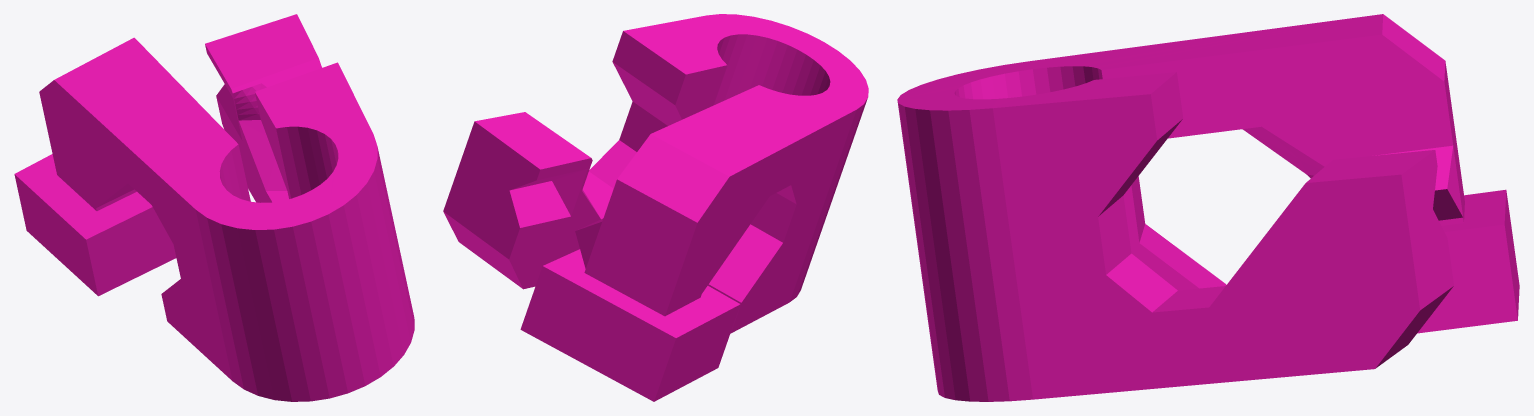
Rendered from barClamp1_5.dae.
The picture shows the model from 3 angles, left to right: view 1: azimuth 30°, elevation 25°; view 2: azimuth 150°, elevation 25°; view 3: azimuth 270°, elevation 25°; orthographic projection. The views are drawn at different scales.
Parts seen in each view (by area): view 1: barClamp1_019; view 2: barClamp1_019; view 3: barClamp1_019.
Boxes of the visible parts, x1,y1,x2,y2 form: barClamp1_019: (14,14,414,401); barClamp1_019: (443,14,868,401); barClamp1_019: (897,14,1519,401).
Size of the model in its own units: 0.0783 by 0.1162 by 0.072.
